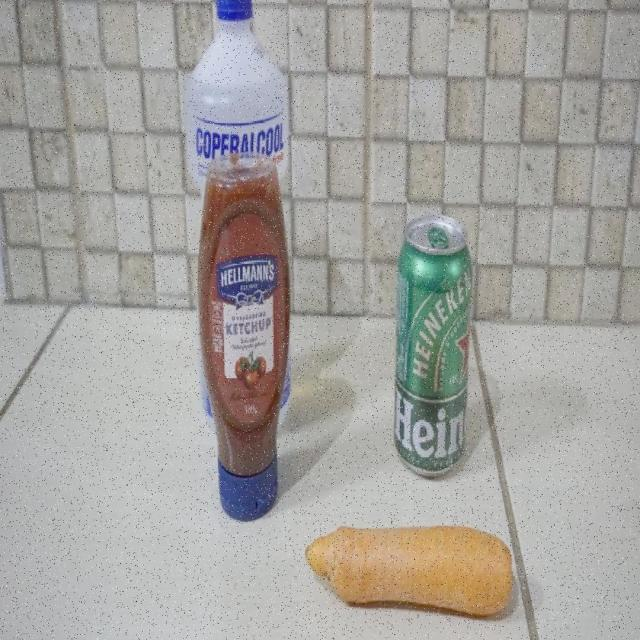AlcoholBottle: (187, 0, 285, 162)
BeerCan: (396, 213, 474, 472)
Carrot: (305, 522, 511, 613)
Ketchup: (200, 159, 294, 527)
